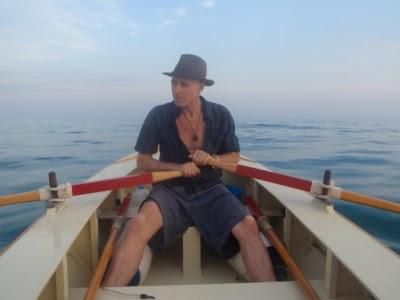person: (101, 54, 277, 290)
